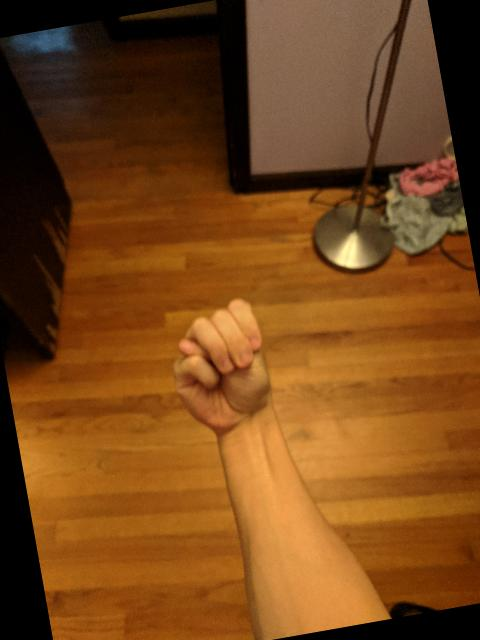M: (156, 291, 288, 444)
